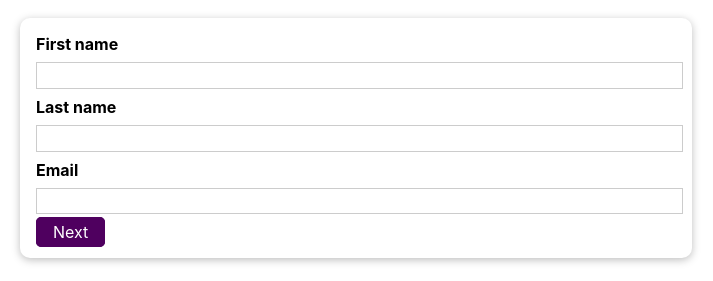
Test: Moving from Step-1 to Step-2 form › Should navigate to Step-2 form after clicking Next in Step-1 form
Expected: the text "City" is not shown
Navigating to Step-2 form
Click the link with test id "from1to2" at {"x": 71, "y": 232}, box [36, 217, 105, 247]
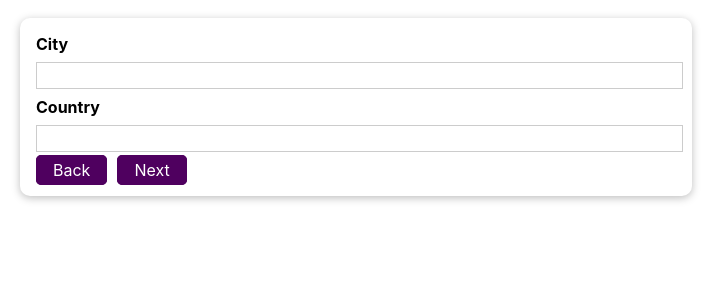
Expected: the field with test id "city" is empty, [36, 62, 683, 89]
Result: the label with test id "cityLbl" reads "City" at [36, 34, 68, 54]
Result: the link with test id "from2to1" reads "Back" at [36, 155, 107, 185]
